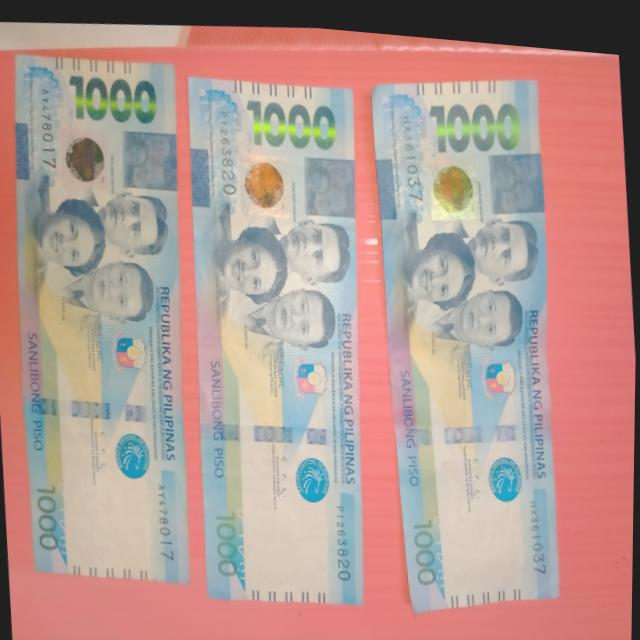concealed_value: (482, 136, 549, 211), (117, 124, 180, 192), (301, 151, 357, 216)
optically_variable_device: (53, 121, 119, 199), (425, 146, 486, 221), (237, 144, 294, 217)
see_through_mark: (429, 491, 460, 587), (231, 489, 259, 583), (50, 467, 75, 562)
